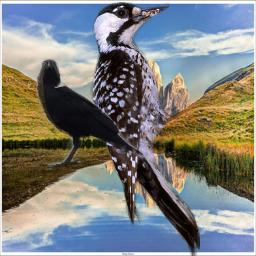Crow: (35, 58, 145, 167)
Woodpecker: (90, 2, 200, 256)
